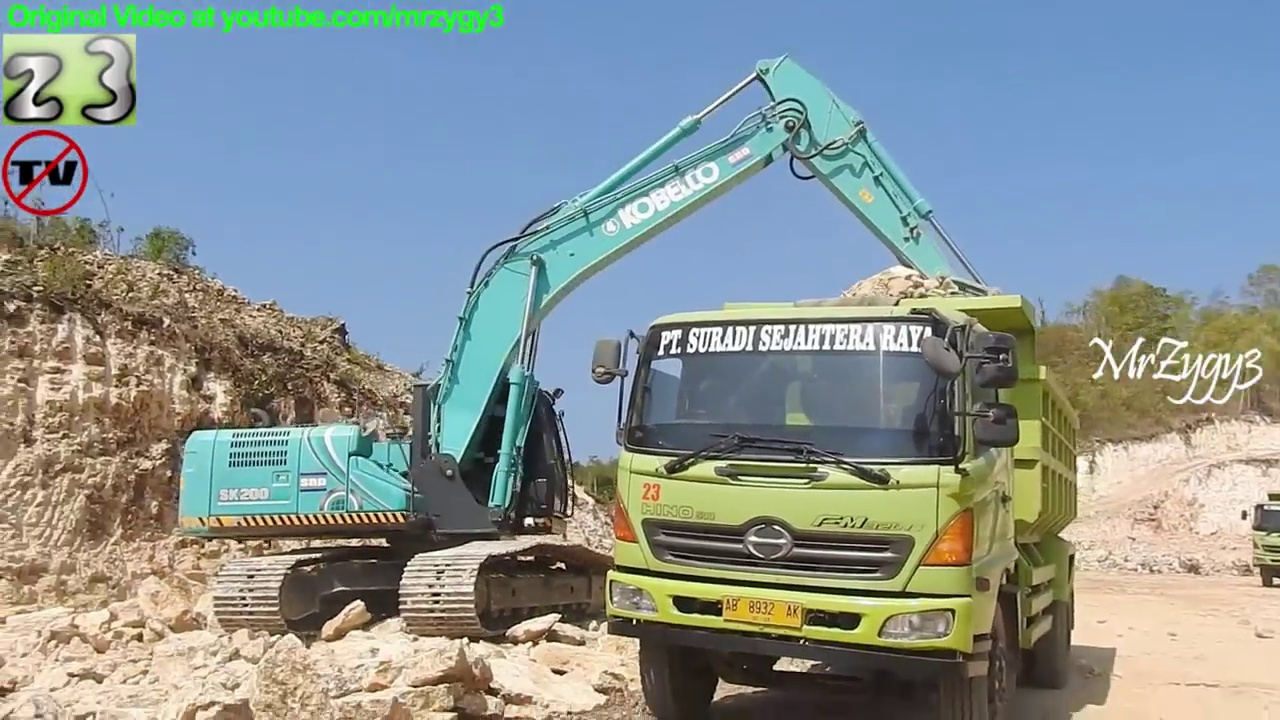excavator: (168, 45, 1050, 647)
truck: (584, 286, 1090, 720), (1238, 488, 1280, 593)
